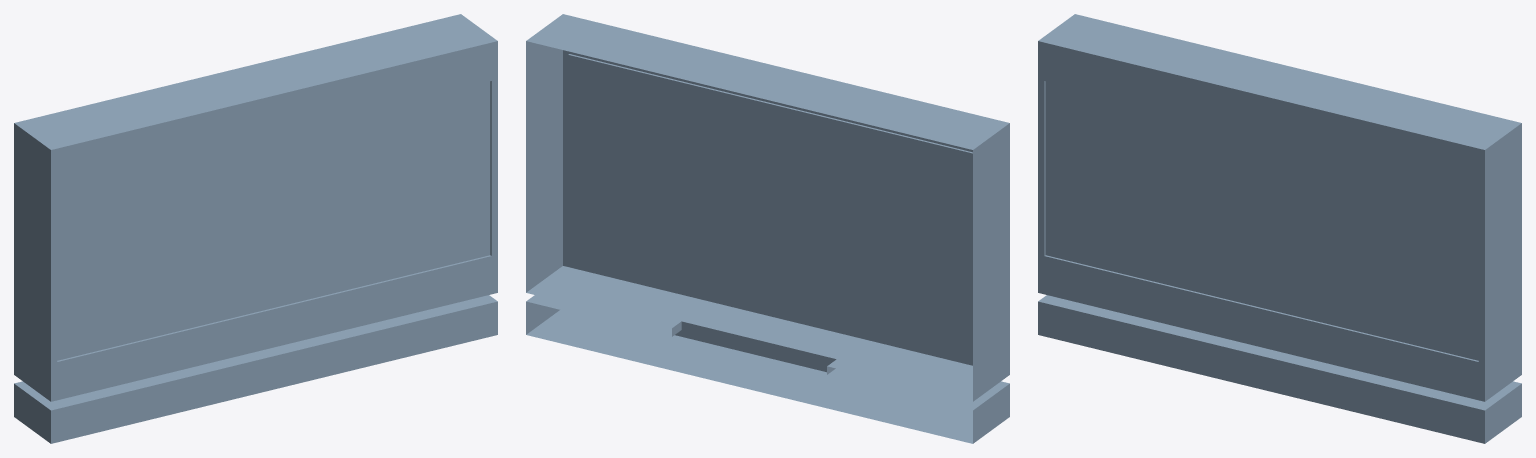
3 views of the same model, side by side, from view 1: azimuth 30°, elevation 25°; view 2: azimuth 150°, elevation 25°; view 3: azimuth 330°, elevation 25° (orthographic).
Parts seen in each view (by area): view 1: TV_2; view 2: TV_2; view 3: TV_2.
Part boxes in pixels (x1,y1,x2,y2): TV_2: (14, 14, 497, 443); TV_2: (526, 14, 1009, 443); TV_2: (1038, 14, 1521, 443).
Size of the model in its own units: 1.41 by 0.8851 by 0.2018.
